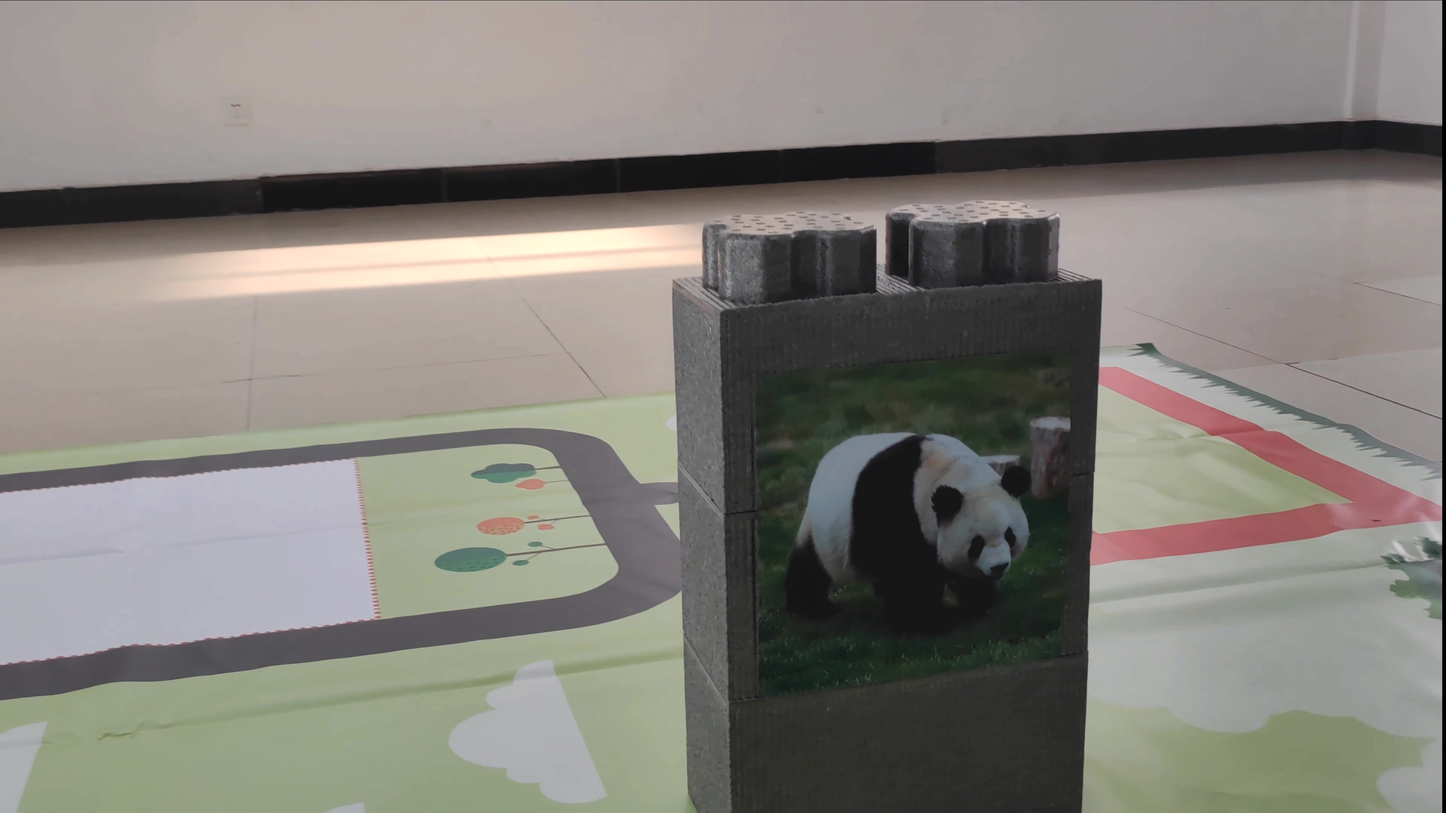panda: (758, 413, 1057, 647)
